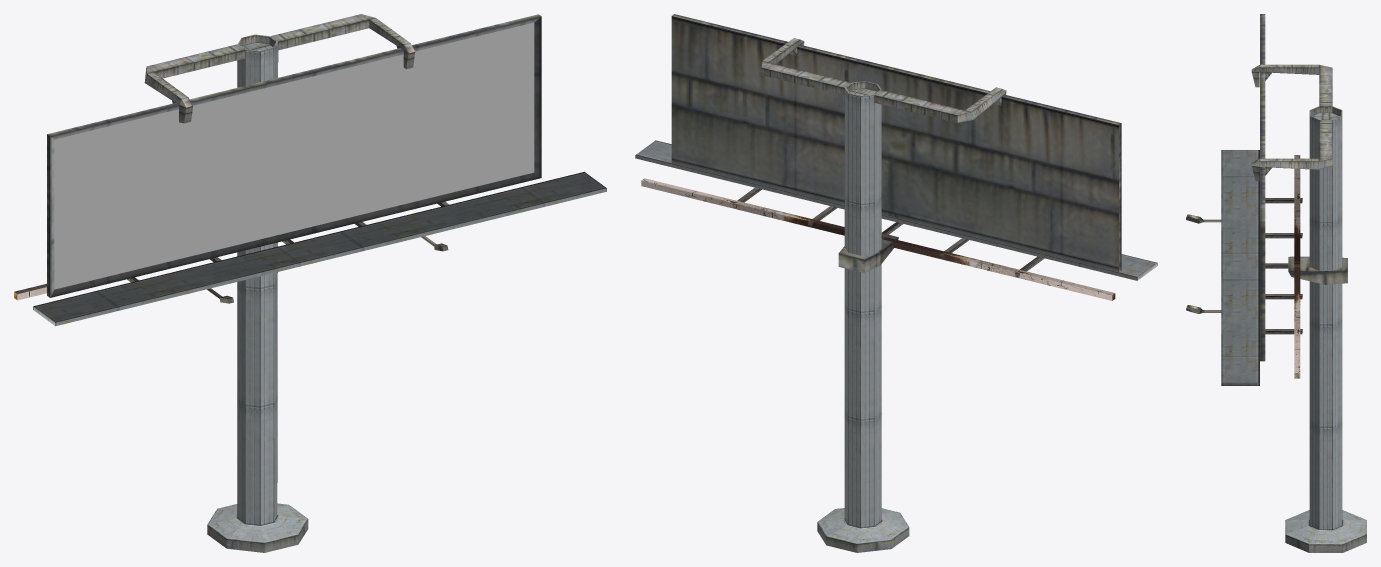
Rendered from bboard_1.FBX.
3 views of the same model, side by side, from view 1: azimuth 30°, elevation 25°; view 2: azimuth 150°, elevation 25°; view 3: azimuth 270°, elevation 25° (orthographic). The views are drawn at different scales.
Parts seen in each view (by area): view 1: BillBoard_06; view 2: BillBoard_06; view 3: BillBoard_06.
Part boxes in pixels (x1=…): BillBoard_06: x1=14, y1=14, x2=606, y2=552; BillBoard_06: x1=635, y1=14, x2=1157, y2=552; BillBoard_06: x1=1186, y1=14, x2=1366, y2=552.
Bounding box in the file's own units: 720 × 609 × 236.
